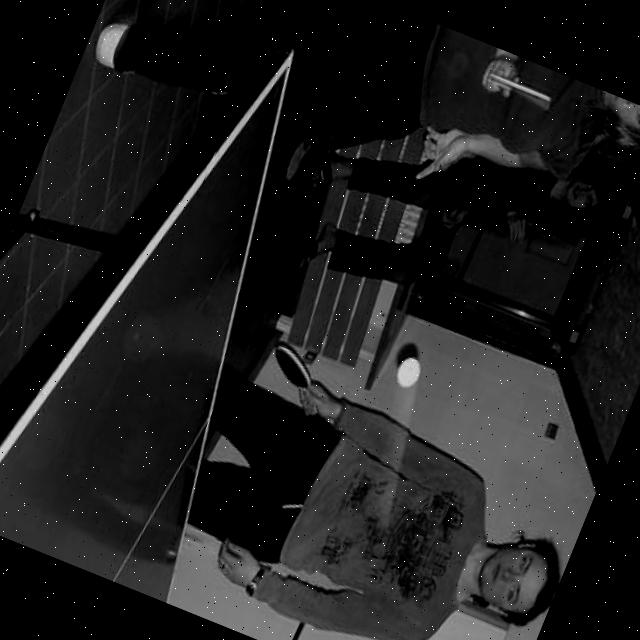ping-pong-ball: (394, 354, 424, 388)
